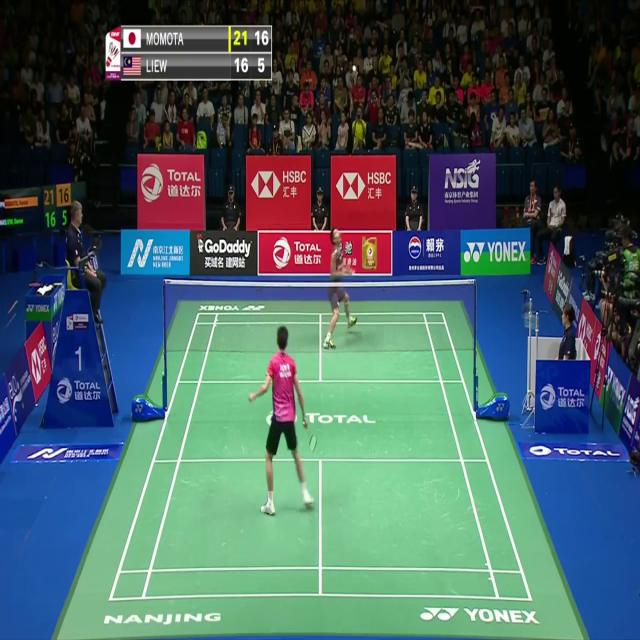Shuttlecock: (350, 63, 357, 74)
